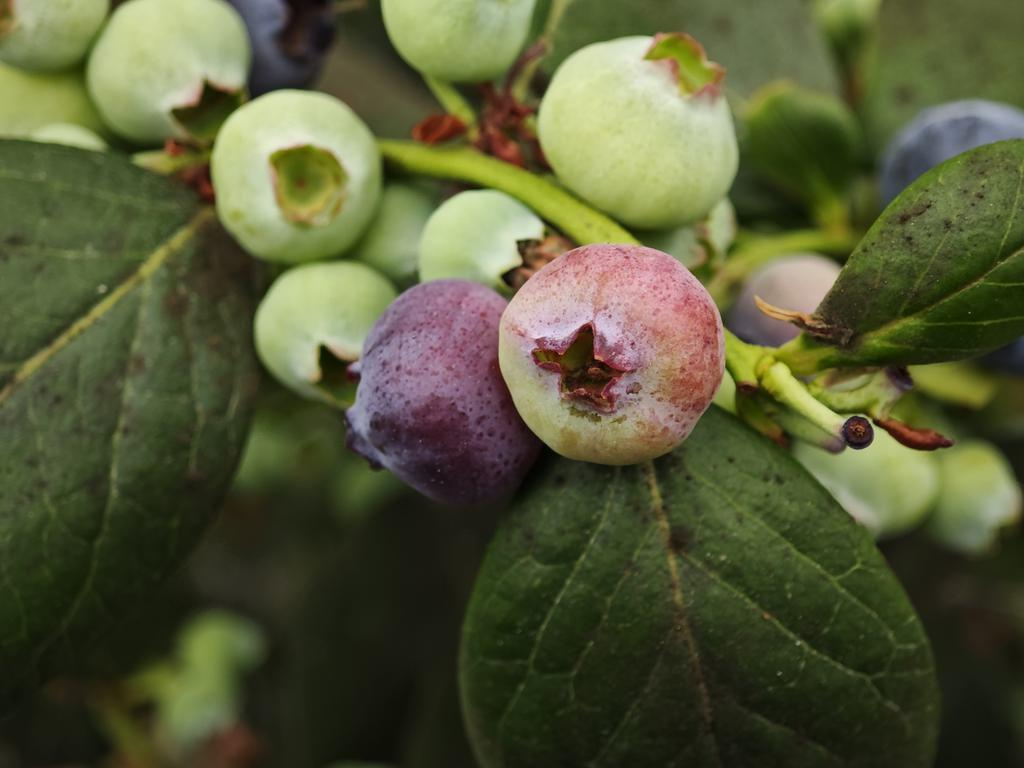Semi-RipeBlueBerry: (495, 239, 729, 467), (337, 273, 541, 515)
UnripeBlueBerry: (533, 25, 745, 229)
